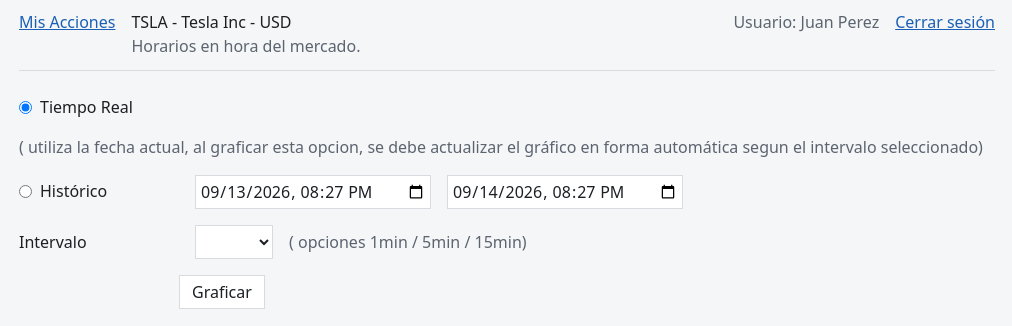
the two ways of asking, as the wireframe draws them › offers Tiempo Real and Histórico, and only one of them at a time
The width and height of the screenshot is (1012, 326).
Check: the button "Graficar" is shown, box [179,275,265,309]
Click the radio button labelled "Histórico".
click(26, 191)  # box [19,184,32,198]
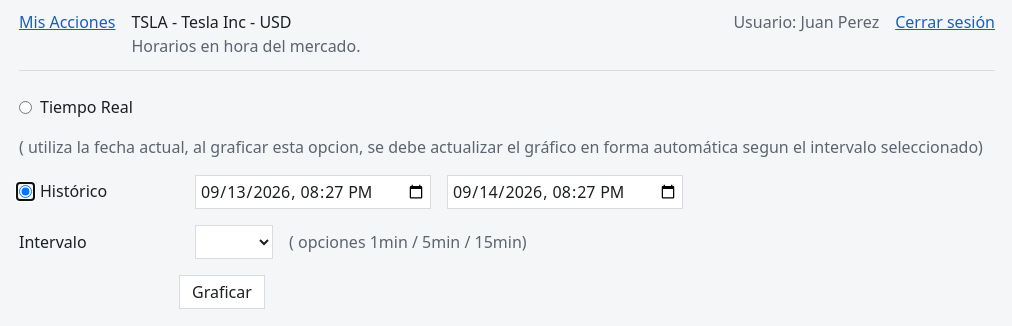
Check: the radio button labelled "Histórico" is checked, box [19,184,32,198]
Check: the radio button labelled "Tiempo Real" is not checked, box [19,100,32,114]
